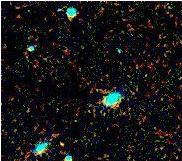star: (47, 129, 77, 159)
